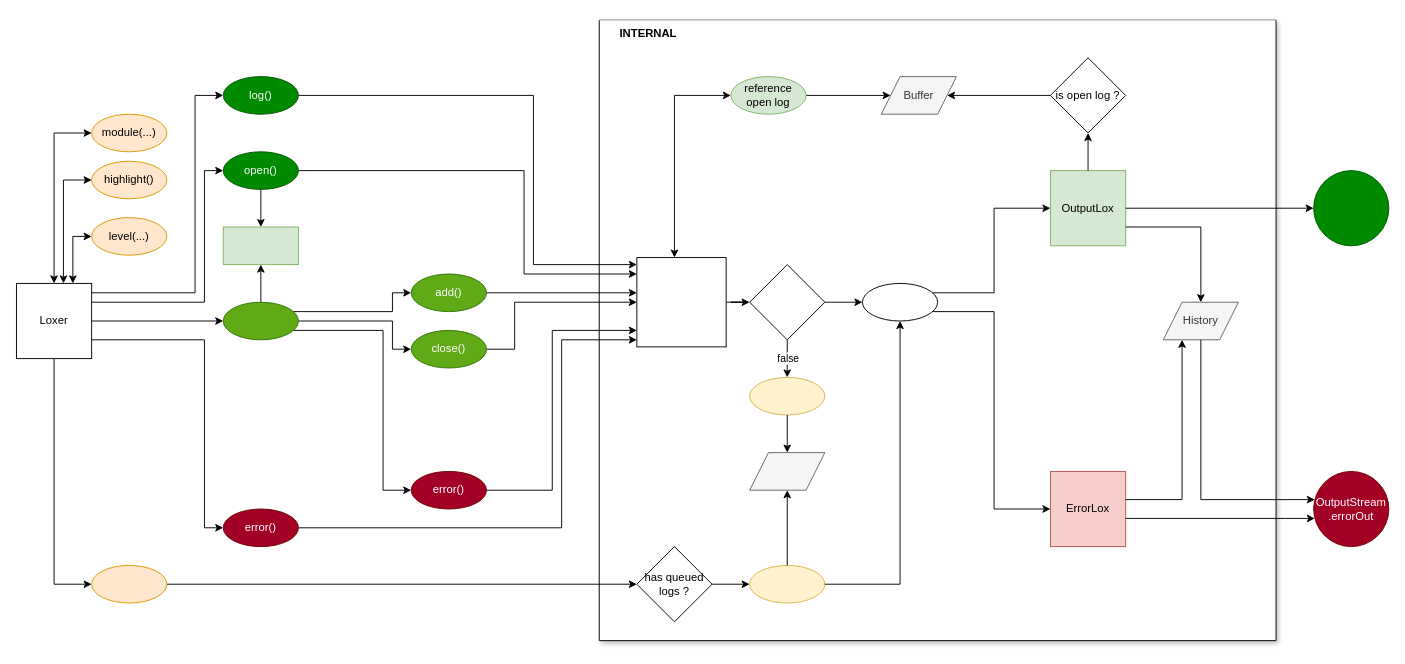
This 1405x664 diagram has some shape labels left out. Here are the shapes that lost their labels. From the top down, the centre of each, then its label:
At point (1351, 208): "OutputStream .logOut".
At point (260, 245): "Lox.id".
At point (260, 320): "of()".
At point (681, 302): "Lox".
At point (787, 302): "initialized ?".
At point (900, 301): "prepare output".
At point (787, 395): "enqueue".
At point (787, 471): "Queue".
At point (129, 583): "init(...)".
At point (787, 583): "dequeue".
